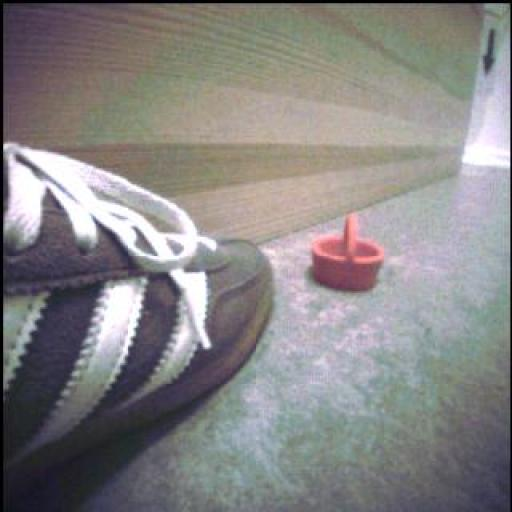Arrow: (484, 30, 497, 75)
Bucket: (311, 214, 385, 292)
